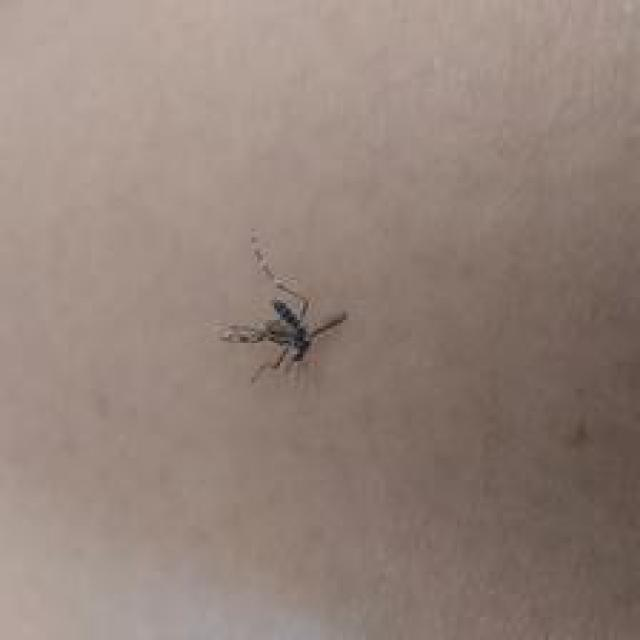Aedes albopictus: (217, 227, 349, 384)
